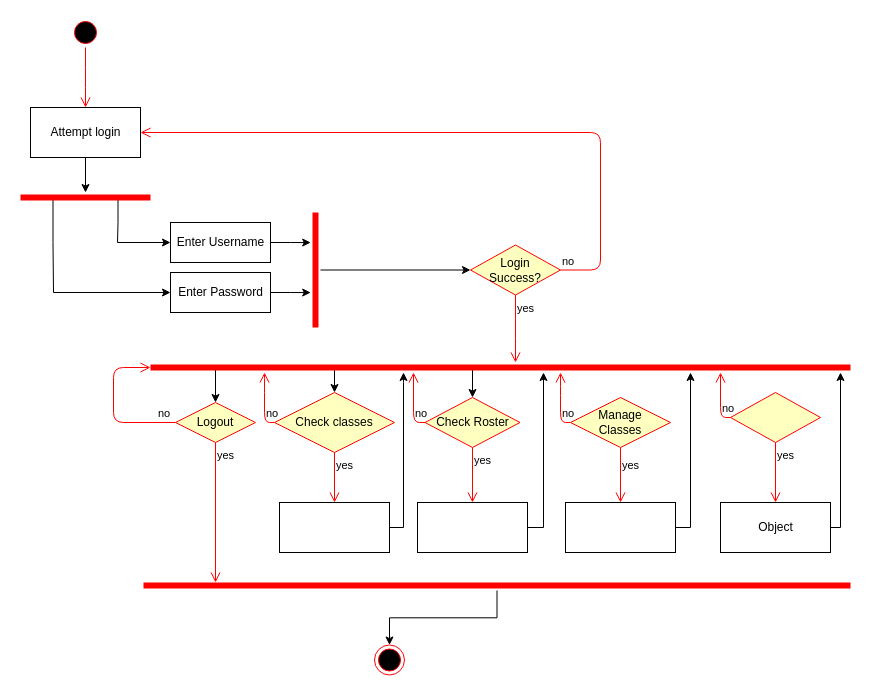
This 870x693 diagram has some shape labels left out. The centre of each missing label's shape, as x and y in pixels:
"checkSchedule()" goes at (472,527).
"classManage()" goes at (620,527).
"Manage Users" goes at (775,417).
"searchClass()" goes at (334,527).
